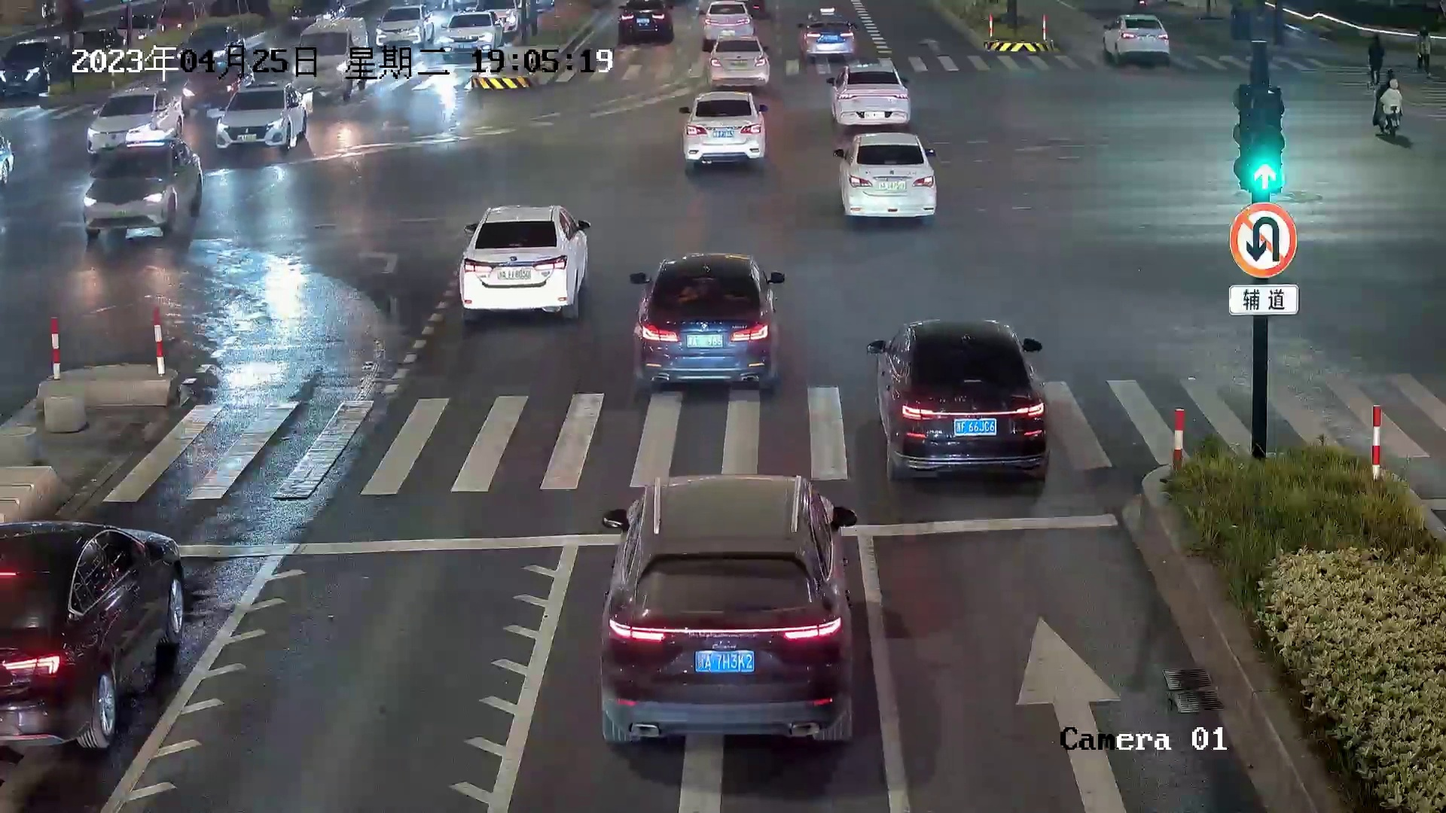person: (1365, 29, 1382, 93), (1414, 22, 1433, 76), (1384, 77, 1402, 115)
vehicle: (594, 467, 859, 739), (0, 522, 186, 757), (870, 314, 1051, 483), (630, 248, 778, 391), (456, 197, 586, 318), (80, 138, 203, 239), (831, 129, 938, 219), (678, 90, 767, 165), (210, 84, 308, 151), (84, 85, 185, 149), (825, 62, 911, 129), (295, 17, 362, 84), (1097, 13, 1173, 70), (0, 42, 68, 97), (705, 31, 773, 86), (438, 11, 499, 56), (374, 2, 430, 44), (615, 0, 672, 41), (797, 15, 854, 55), (702, 0, 752, 43)
